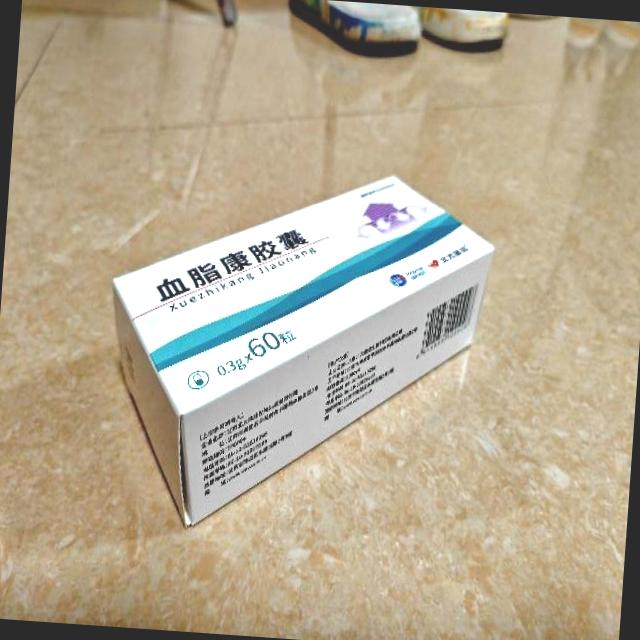box: (96, 157, 498, 544)
